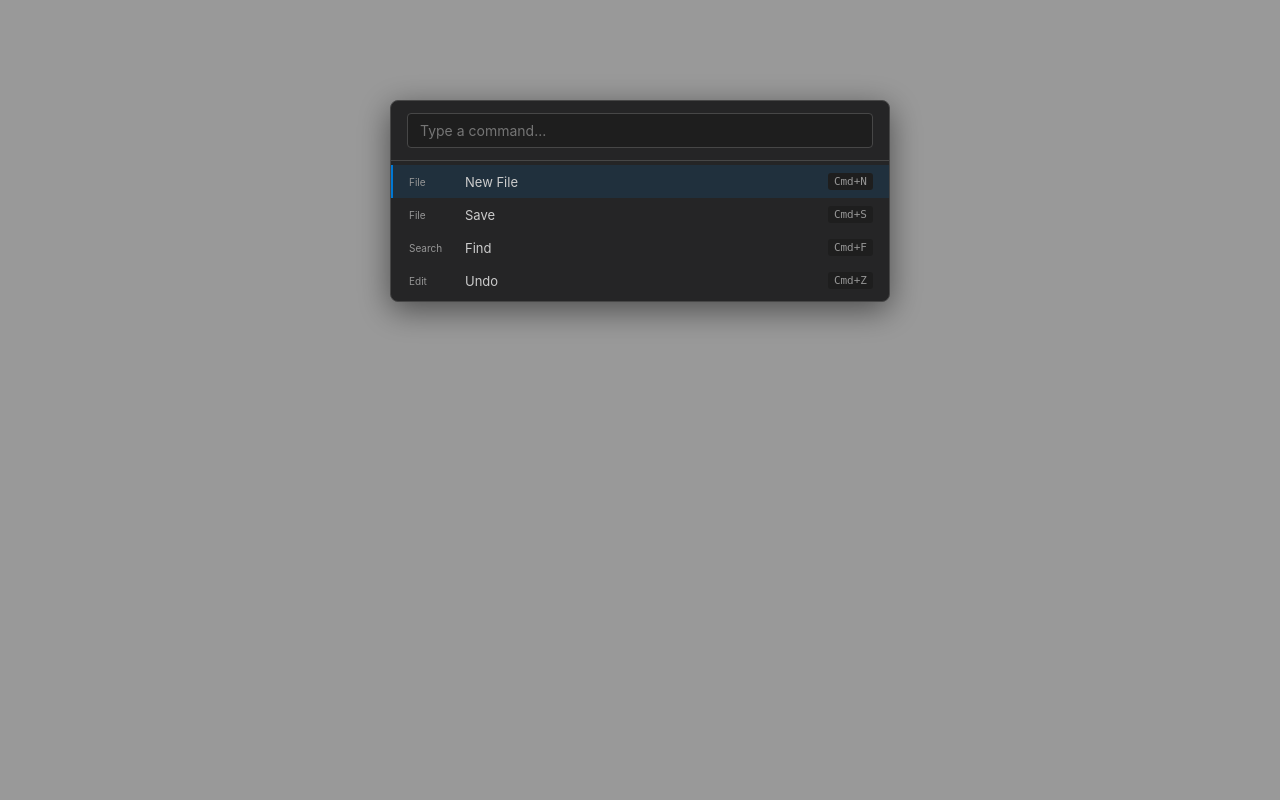
CommandPaletteViewPresenter › shows "No matching commands" when no results
This screenshot has width=1280, height=800.
Type "zzzzzzzzz" into the field with placeholder "Type a command..." at {"x": 640, "y": 130}, box [407, 113, 873, 148]
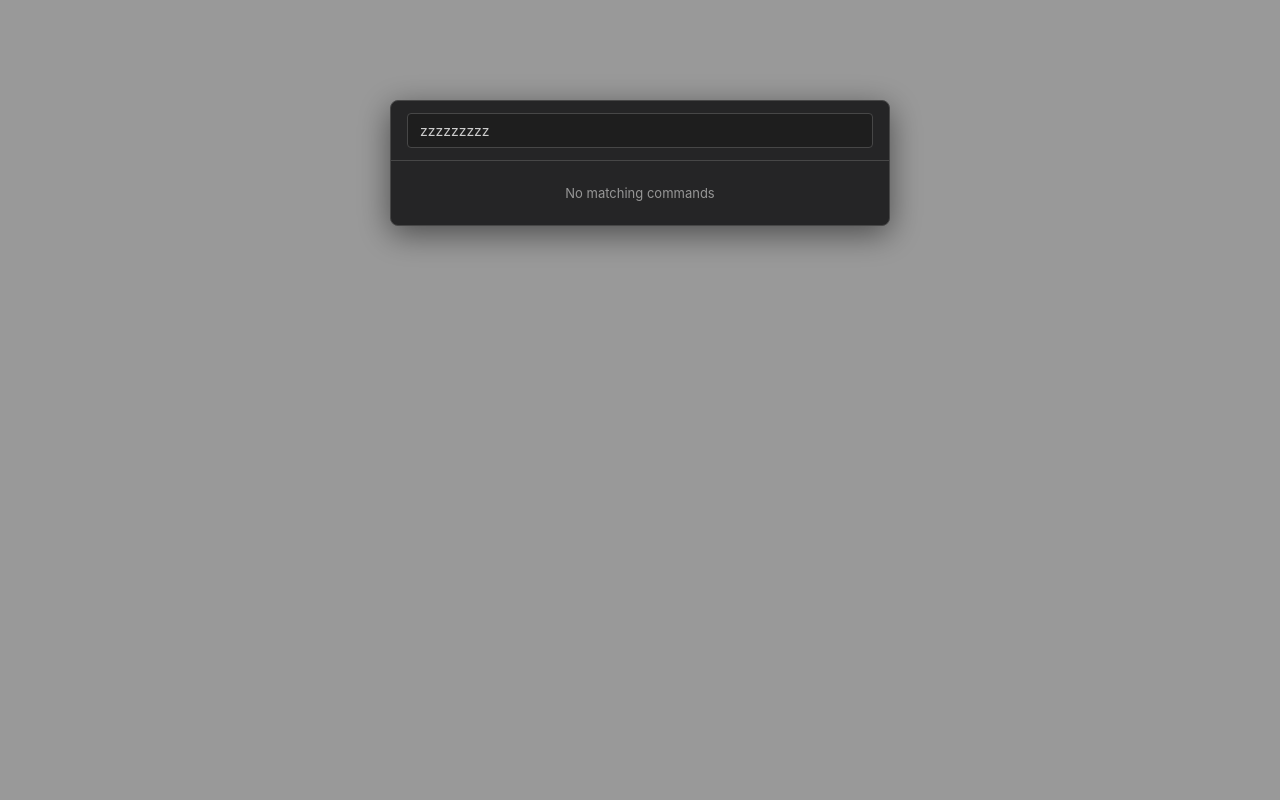
Now the text "No matching commands" is shown, box [565, 185, 715, 201]
